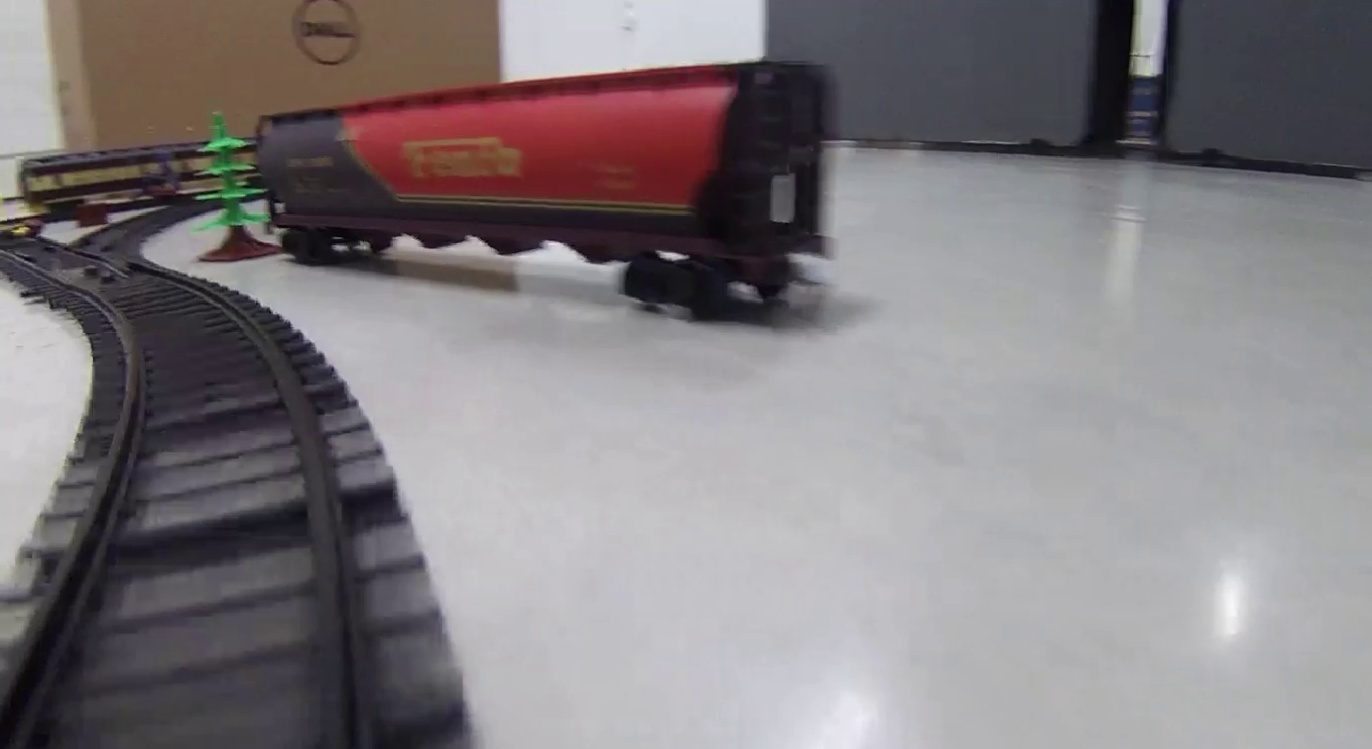tree: (192, 112, 277, 258)
